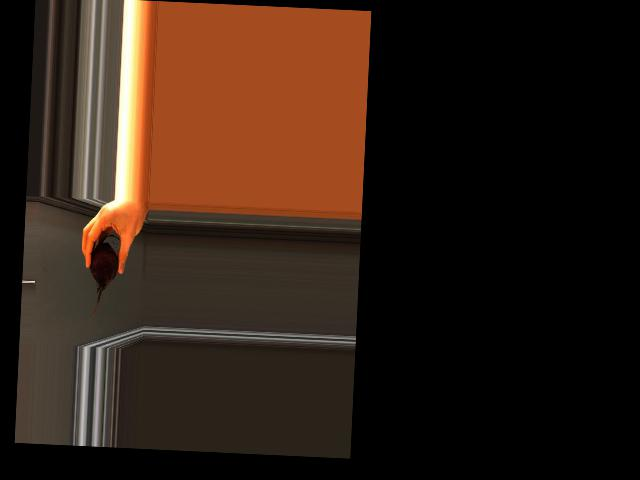beet: (88, 234, 120, 323)
